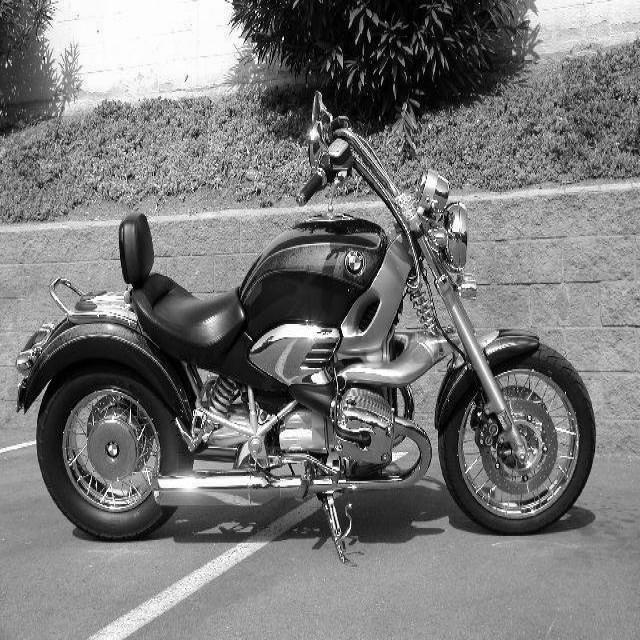Motorcycle: (16, 92, 597, 563)
